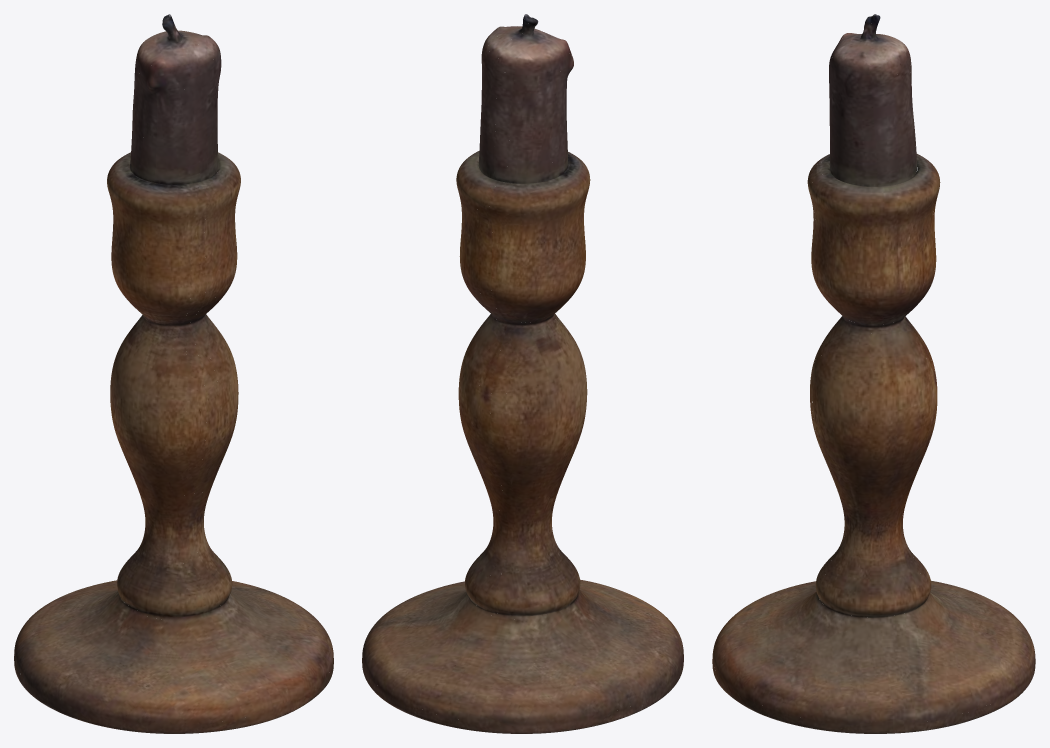
Rendered from wooden_candlestick.glb.
The picture shows the model from 3 angles, left to right: view 1: azimuth 30°, elevation 25°; view 2: azimuth 150°, elevation 25°; view 3: azimuth 270°, elevation 25°; orthographic projection.
Parts seen in each view (by area): view 1: wooden_candlestick; view 2: wooden_candlestick; view 3: wooden_candlestick.
Part boxes in pixels (x1,y1,x2,y2): wooden_candlestick: (14,14,333,733); wooden_candlestick: (362,14,683,733); wooden_candlestick: (712,14,1035,733).
Bounding box in the file's own units: 0.0972 × 0.2197 × 0.0987.
1 material, 1 textured.
